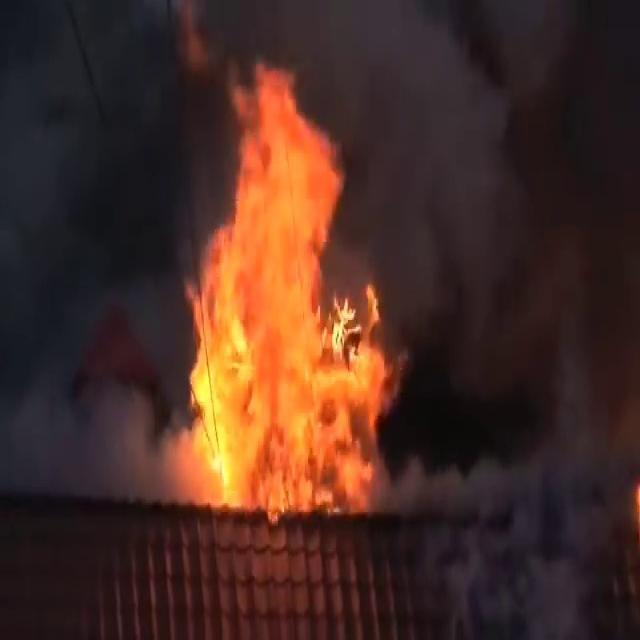Fire: (170, 52, 398, 524)
Smoke: (346, 0, 640, 487), (0, 1, 211, 474)
